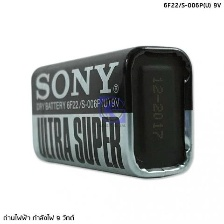battery: (27, 43, 201, 182)
